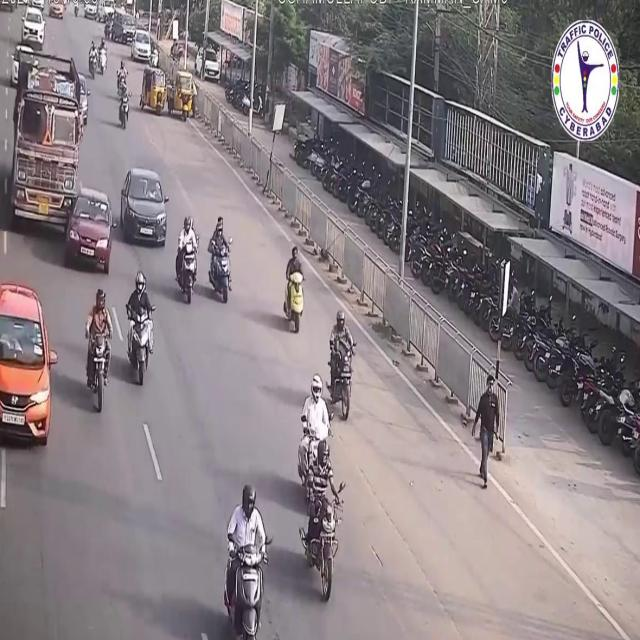accident: (7, 41, 114, 285)
non_accident: (112, 4, 155, 68), (112, 56, 136, 134)
